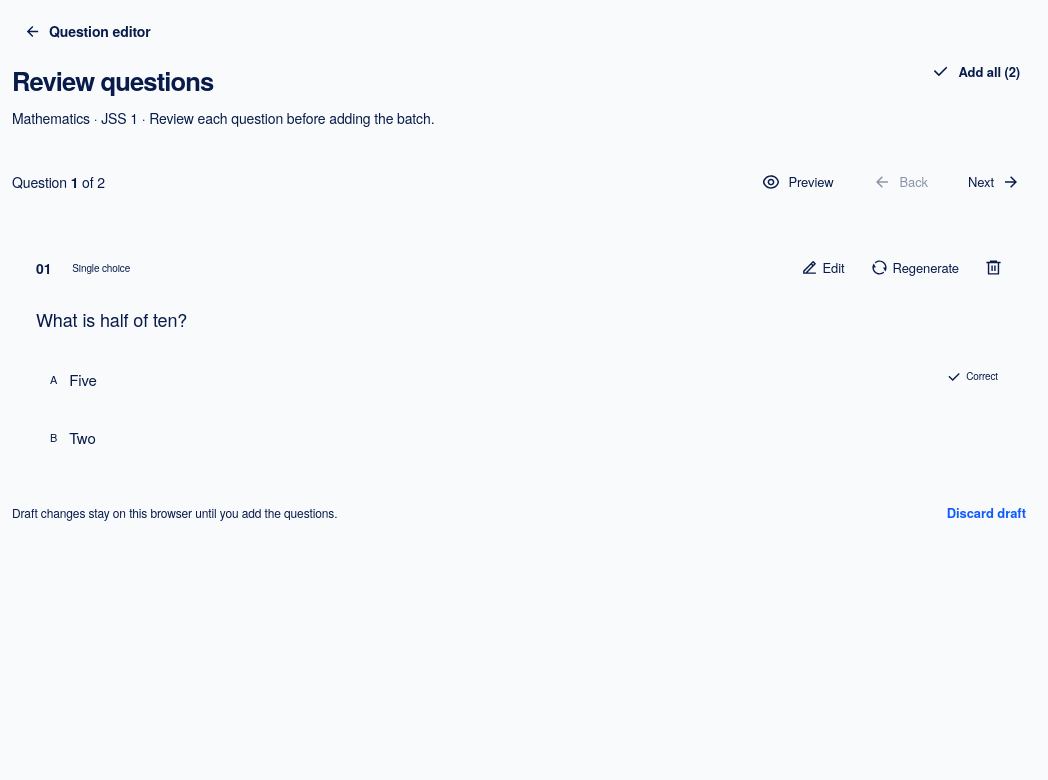
Scenario: Teacher AI authoring › lets a teacher retry a failed credit check before regeneration
The width and height of the screenshot is (1048, 780).
Click the button with aria-label "Regenerate question 1".
click(915, 268)  # box x1=860 y1=251 x2=969 y2=285
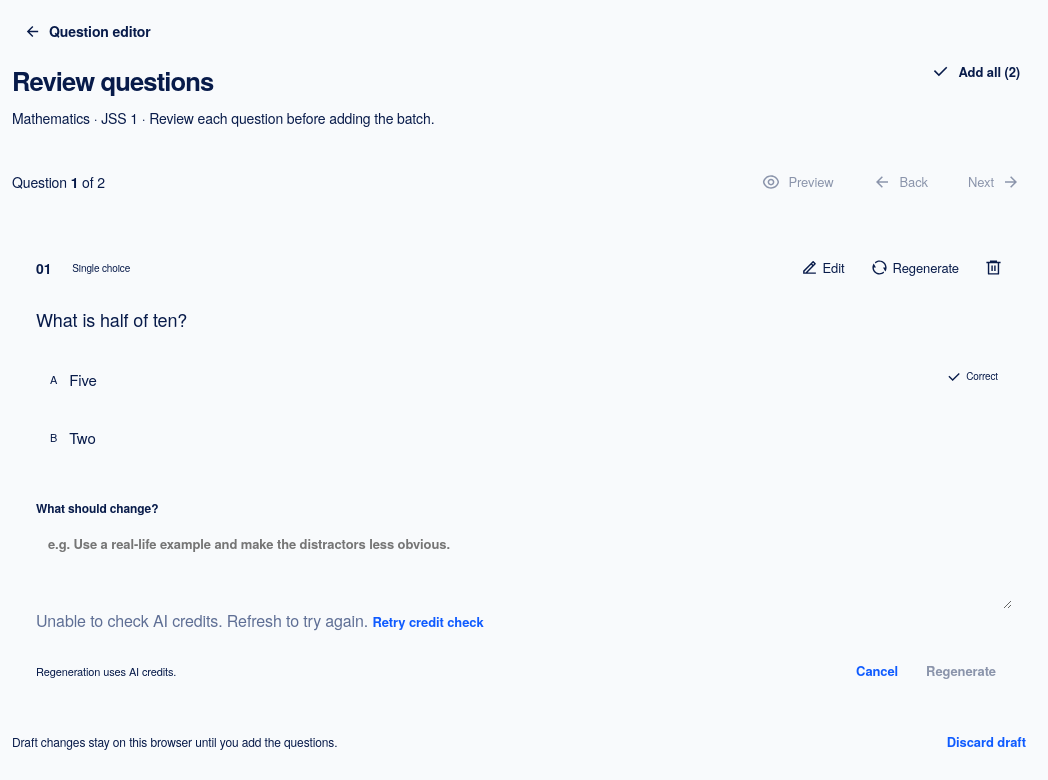
Replace the text in the text box labelled "What should change?" with "Try another example" at (524, 566), box x1=36 y1=524 x2=1012 y2=609
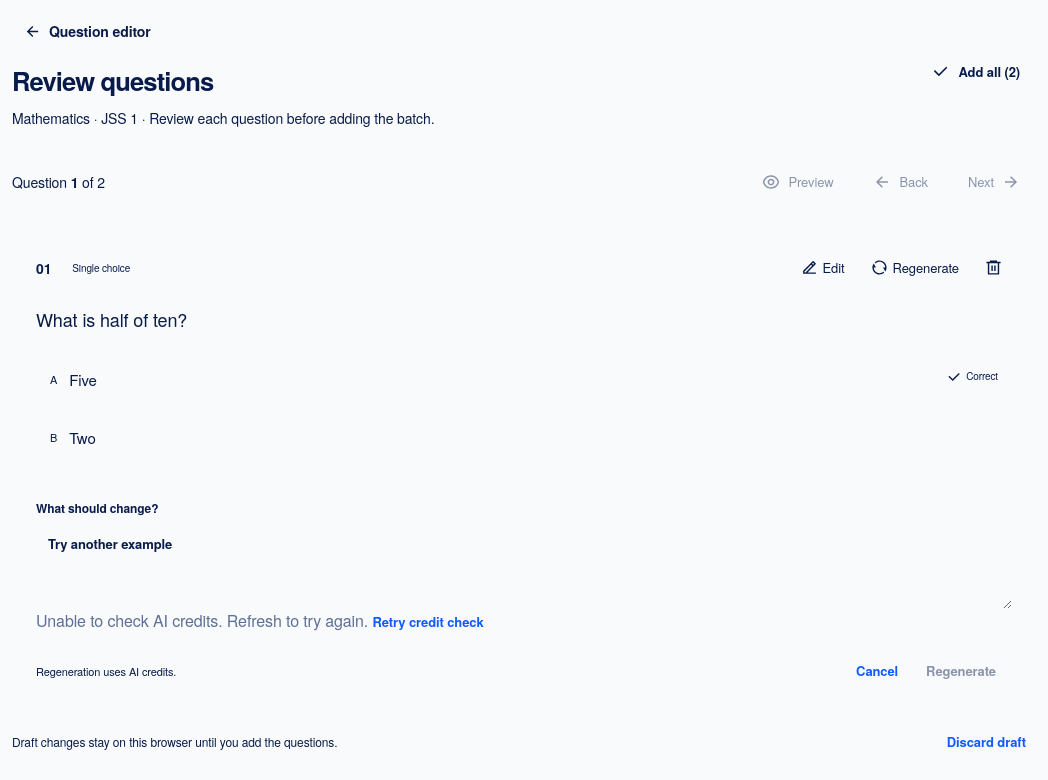
Click the button "Retry credit check".
click(428, 622)  # box x1=372 y1=612 x2=484 y2=632
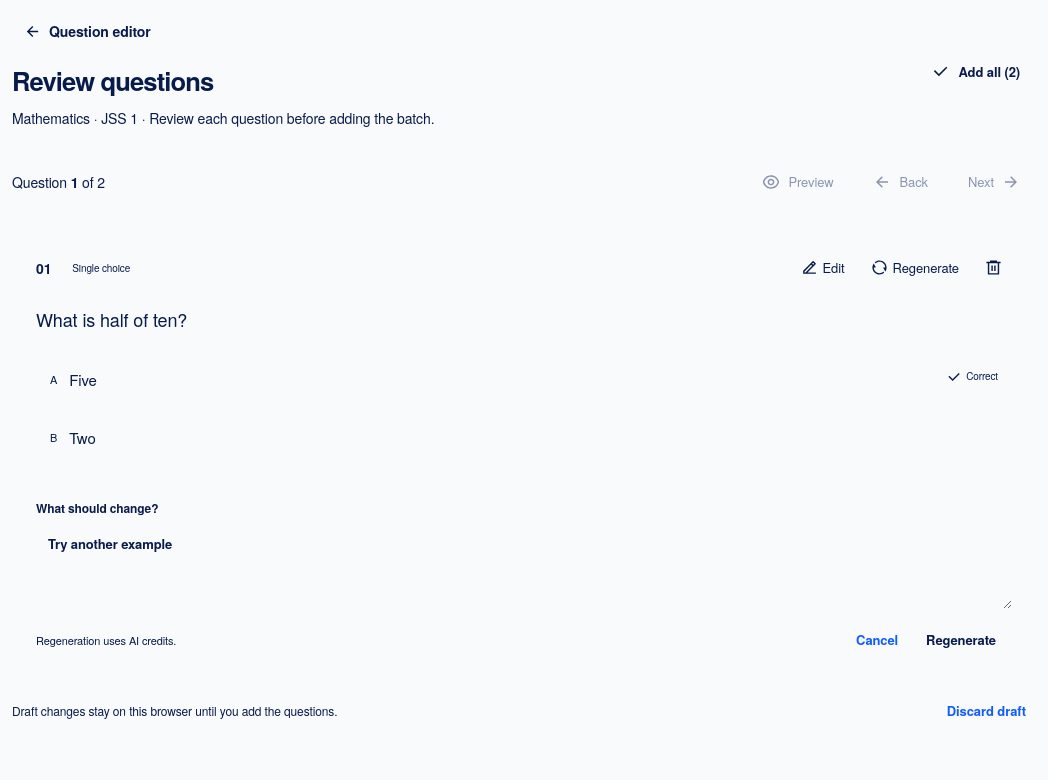
Now the button "Regenerate" in the row of "Regeneration uses AI credits." is enabled, box x1=910 y1=619 x2=1012 y2=661
